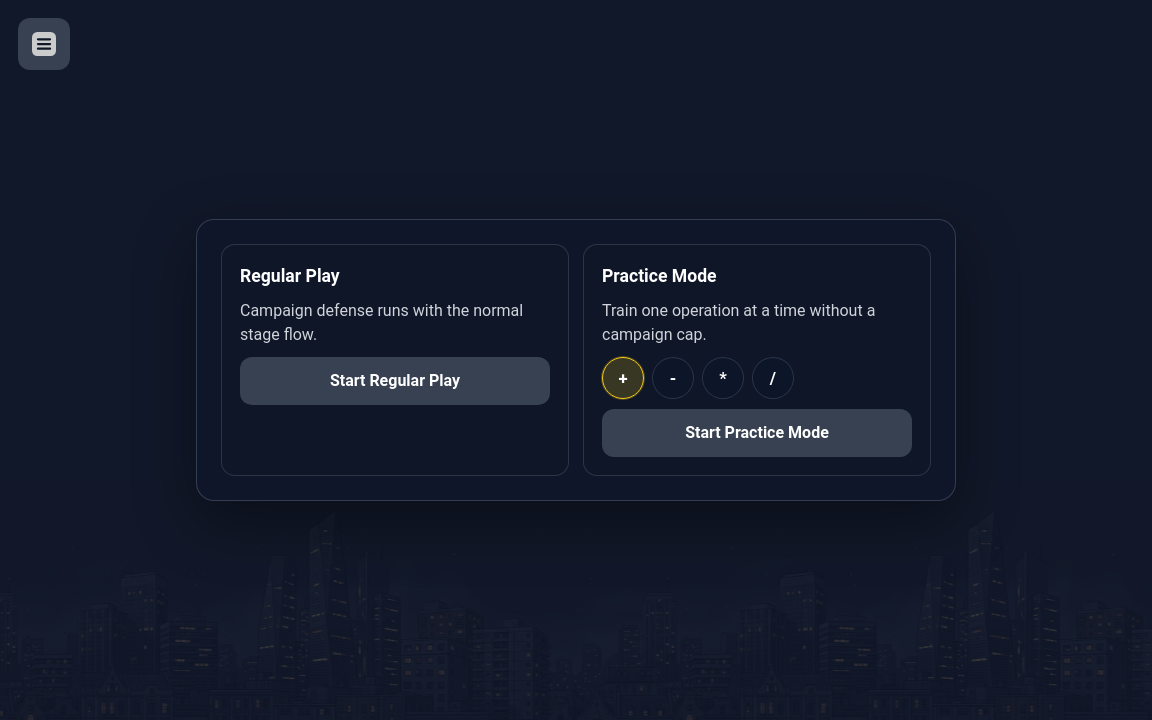
it: App start menu controls › opens the React menu and routes menu selections through UIScene
Click the button with test id "menu-toggle-button" at [44, 44], box [18,18,70,70]
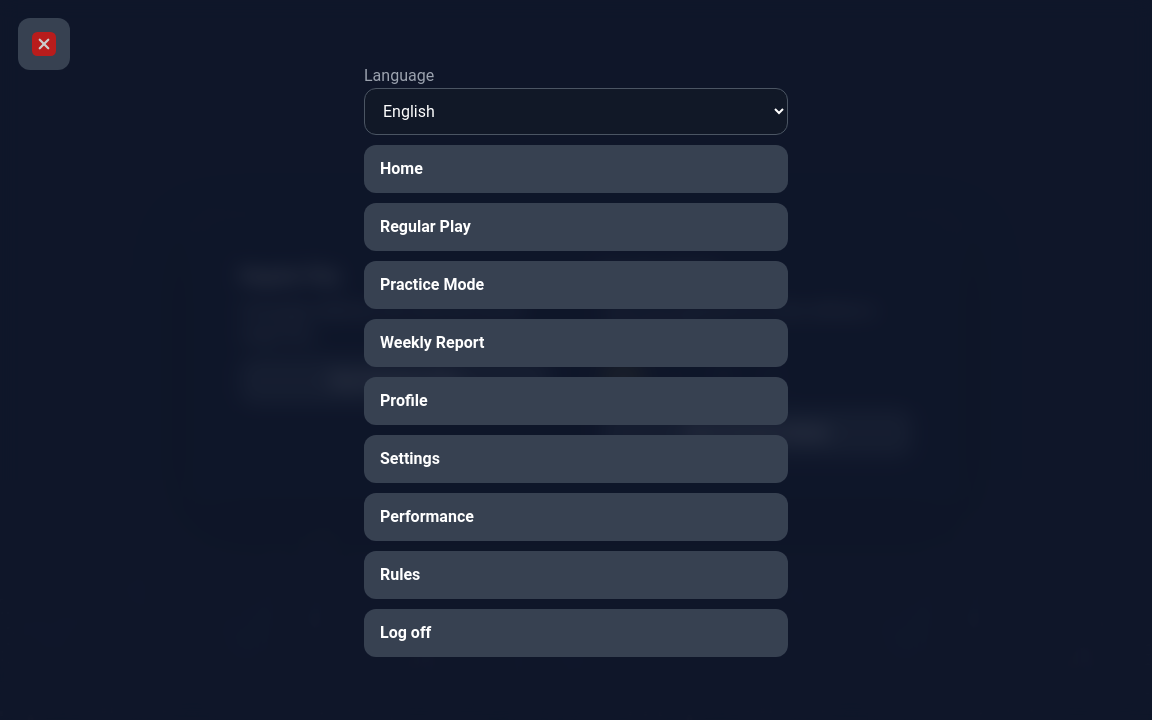
Result: the element with test id "menu-overlay" is shown
Result: the button with test id "menu-close-button" is shown at [18,18,70,70]
Result: the menu item with test id "menu-option-logoff" is shown at [364,608,788,656]
Click the menu item with test id "menu-option-profile" at [404, 400], box [364,376,788,424]
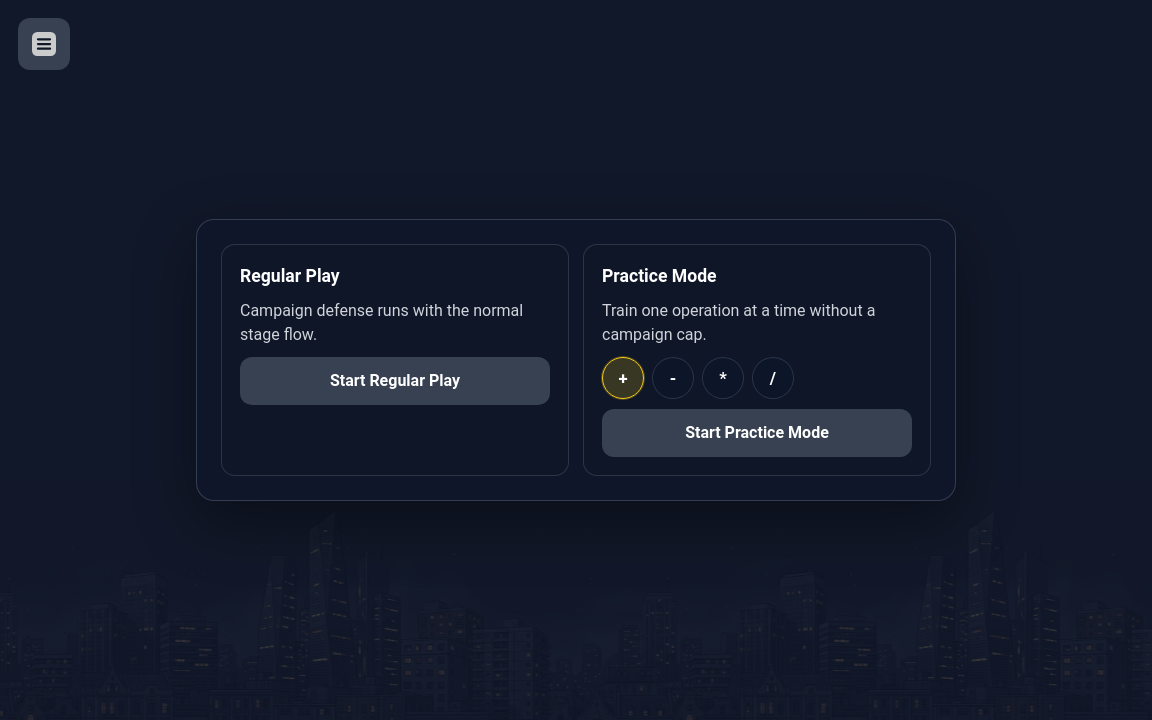
Result: the element with test id "menu-options" is gone
